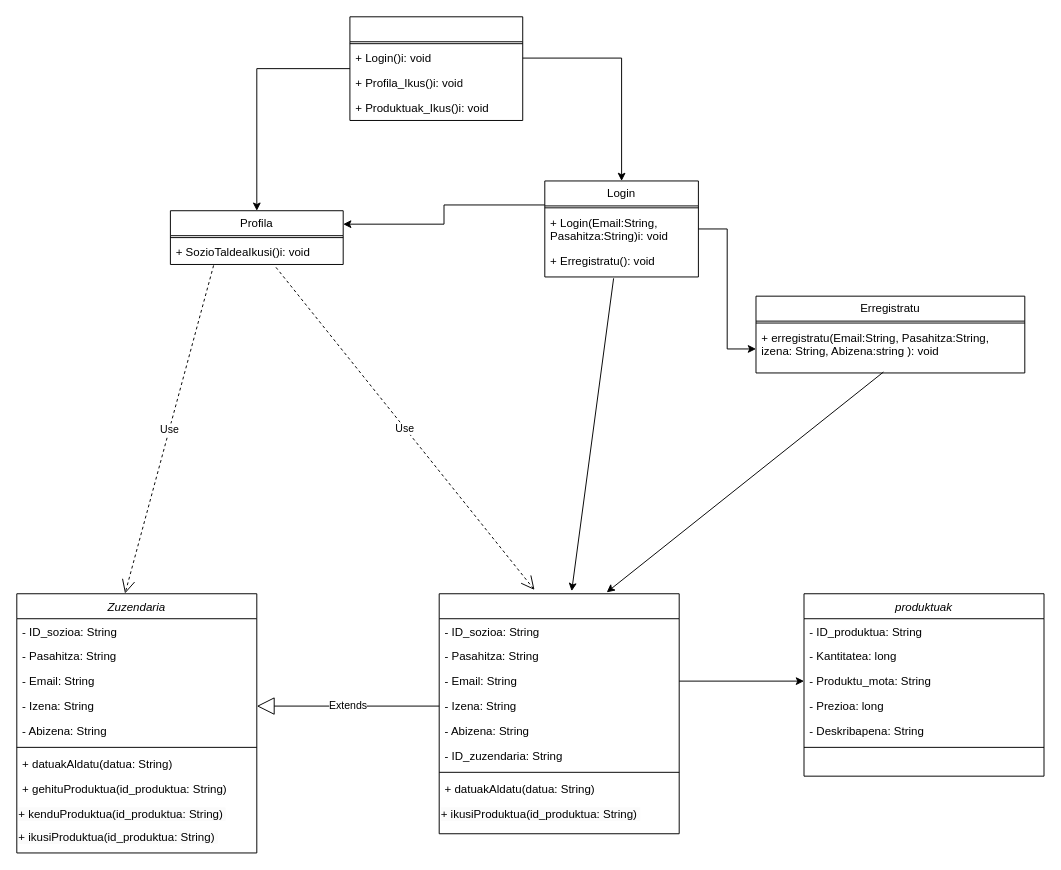
Some shapes in this 1061 by 870 pixel diagram are drawn without their labels. Each missing label, with the box of its shape:
HasierakoLeihoa: (349, 16, 523, 120)
Sozioak: (438, 593, 679, 834)
